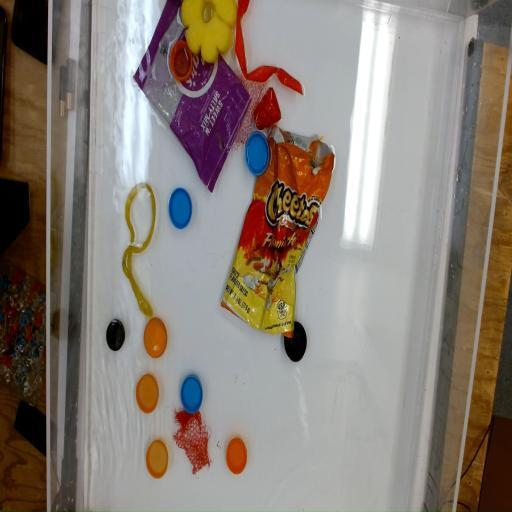Bottle Cap: (245, 131, 270, 177), (168, 185, 192, 230), (144, 317, 168, 358), (171, 40, 192, 86), (145, 438, 169, 478), (285, 320, 307, 362), (136, 374, 158, 414), (181, 376, 204, 412), (226, 438, 248, 474), (106, 320, 126, 352)
Netting: (229, 76, 267, 152), (173, 404, 212, 478)
Plastic Bag: (219, 128, 335, 340), (131, 0, 252, 193)
Plastic Strand: (235, 0, 305, 101), (122, 182, 158, 316)
Sponge: (181, 0, 238, 65)
